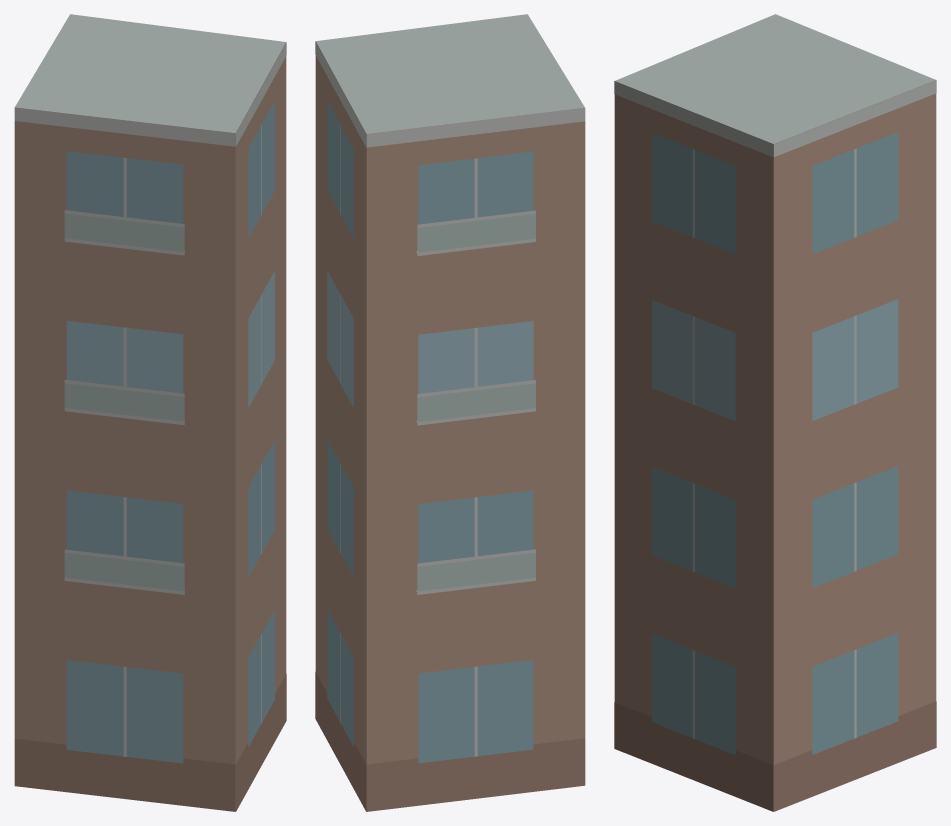
File: survey-upis-32758177.glb
3 views of the same model, side by side, from view 1: azimuth 30°, elevation 25°; view 2: azimuth 150°, elevation 25°; view 3: azimuth 270°, elevation 25° (orthographic).
Visible parts, largest first — view 1: survey-upis-32758177.tmp; view 2: survey-upis-32758177.tmp; view 3: survey-upis-32758177.tmp.
Boxes of the visible parts, box(x1,y1,x2,y2) form: survey-upis-32758177.tmp: box(14, 14, 286, 811); survey-upis-32758177.tmp: box(315, 14, 585, 811); survey-upis-32758177.tmp: box(614, 14, 936, 811).
Bounding box in the file's own units: 5.1 × 12.2 × 5.33.
